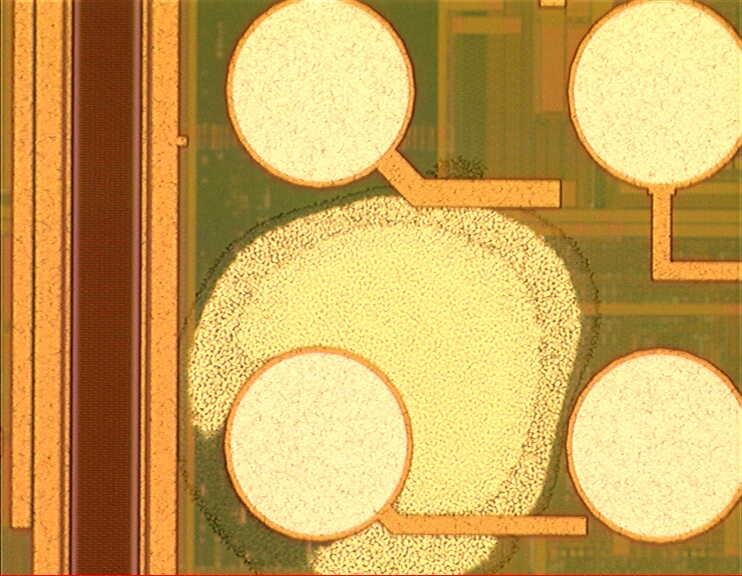BLOCK ETCH: (173, 152, 608, 576)
